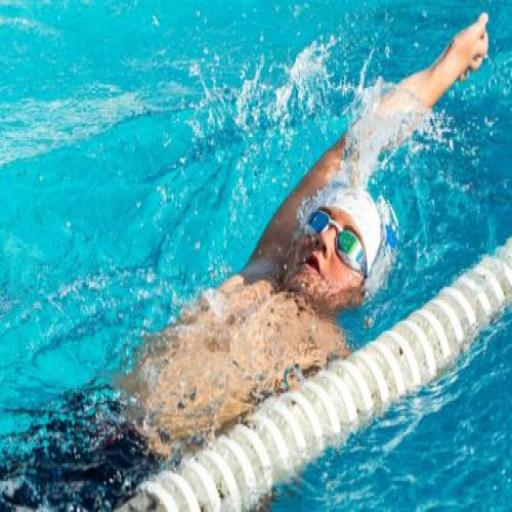swimming: (0, 8, 492, 510)
